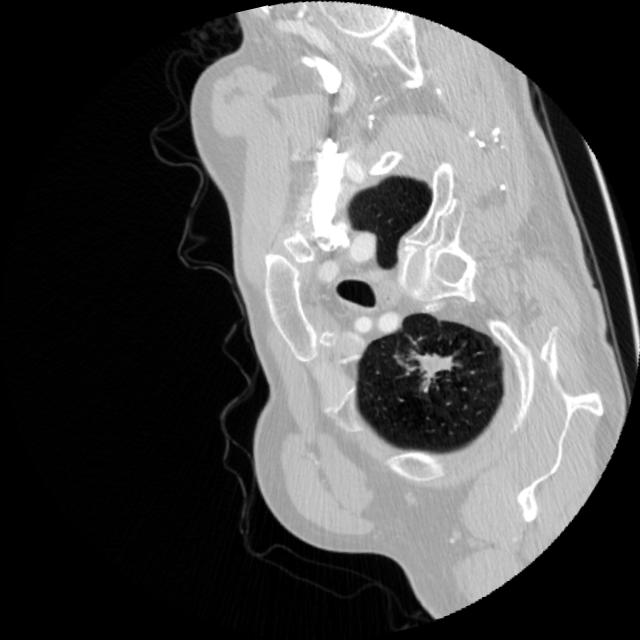nodule: (391, 324, 469, 402)
